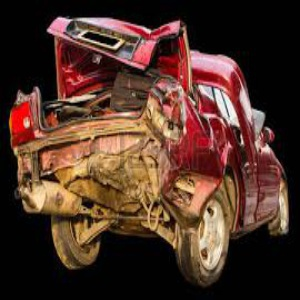bumper: (22, 139, 191, 228)
